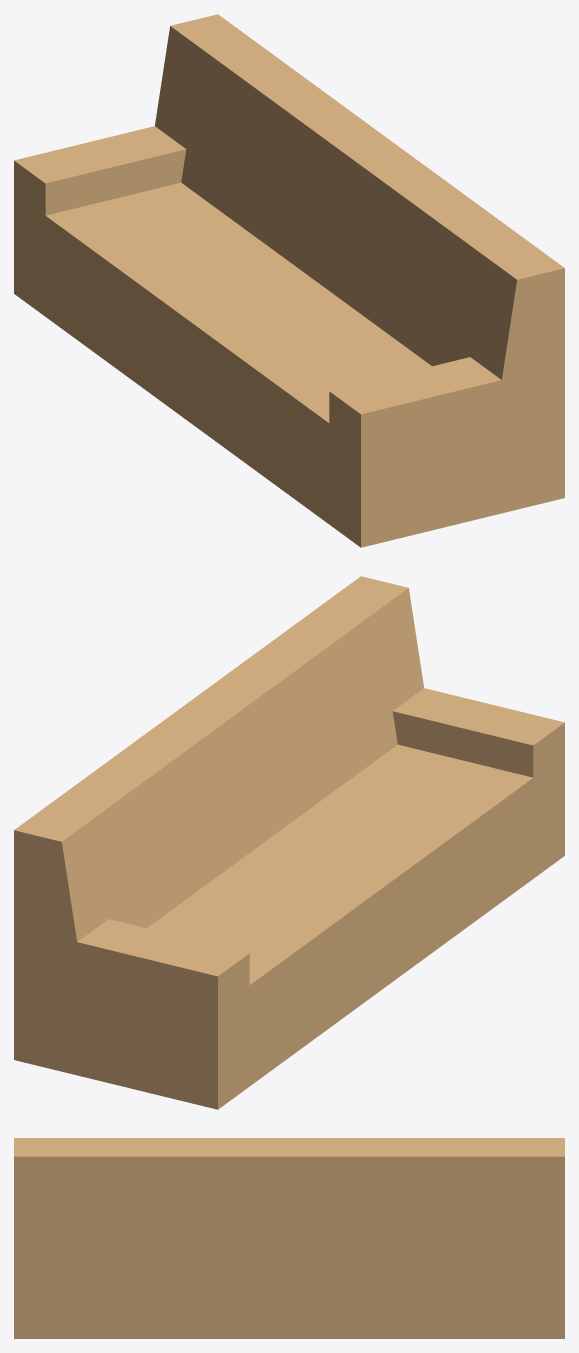
The model's file is couch_01_mockup.fbx.
3 views of the same model, one above another, from view 1: azimuth 30°, elevation 25°; view 2: azimuth 150°, elevation 25°; view 3: azimuth 270°, elevation 25° (orthographic). The views are drawn at different scales.
Visible parts, largest first — view 1: Plane; view 2: Plane; view 3: Plane.
Part boxes in pixels (x1,y1,x2,y2): Plane: (14,14,564,547); Plane: (14,576,564,1109); Plane: (14,1138,564,1338).
Bounding box in the file's own units: 0.7237 × 2.13 × 0.7792.
